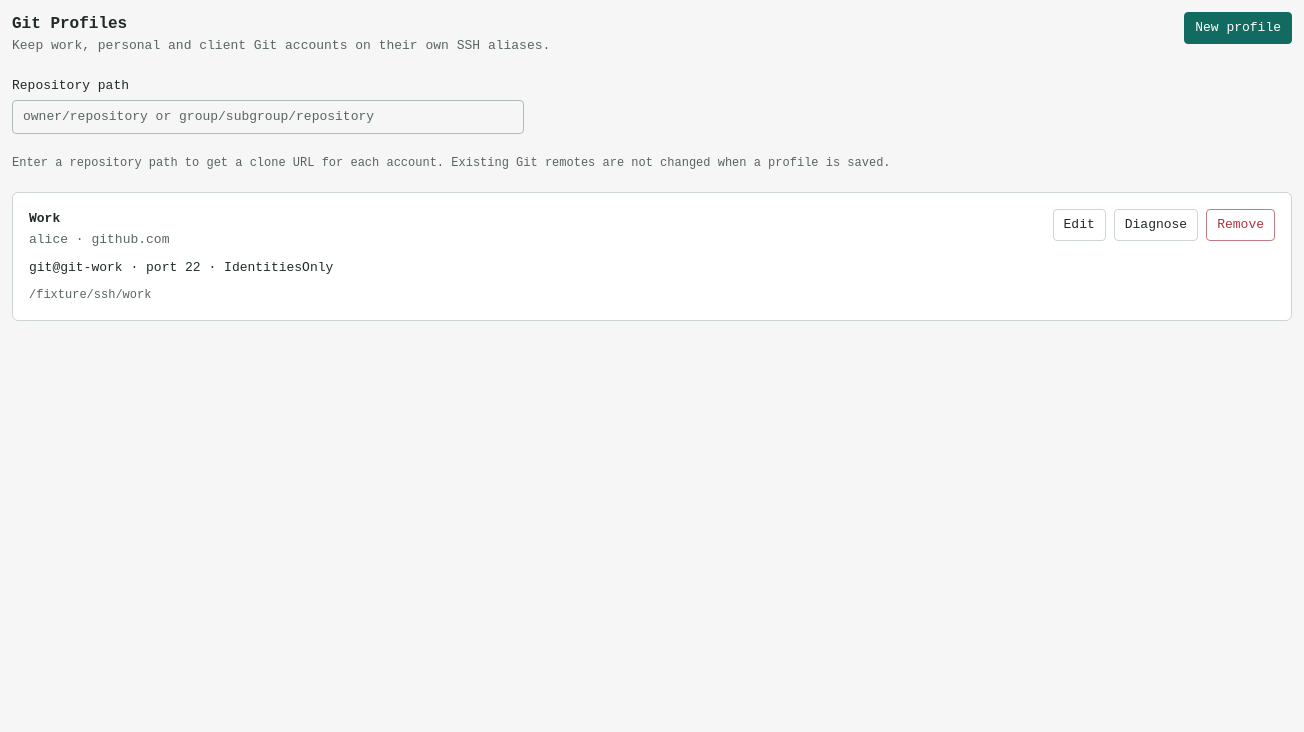
Test: Git profiles and repository safety › keeps a stale profile edit open and reports its rejection
This screenshot has width=1304, height=732.
Step 1. Click the button "Edit" → (1079, 225), box x1=1052 y1=209 x2=1106 y2=241
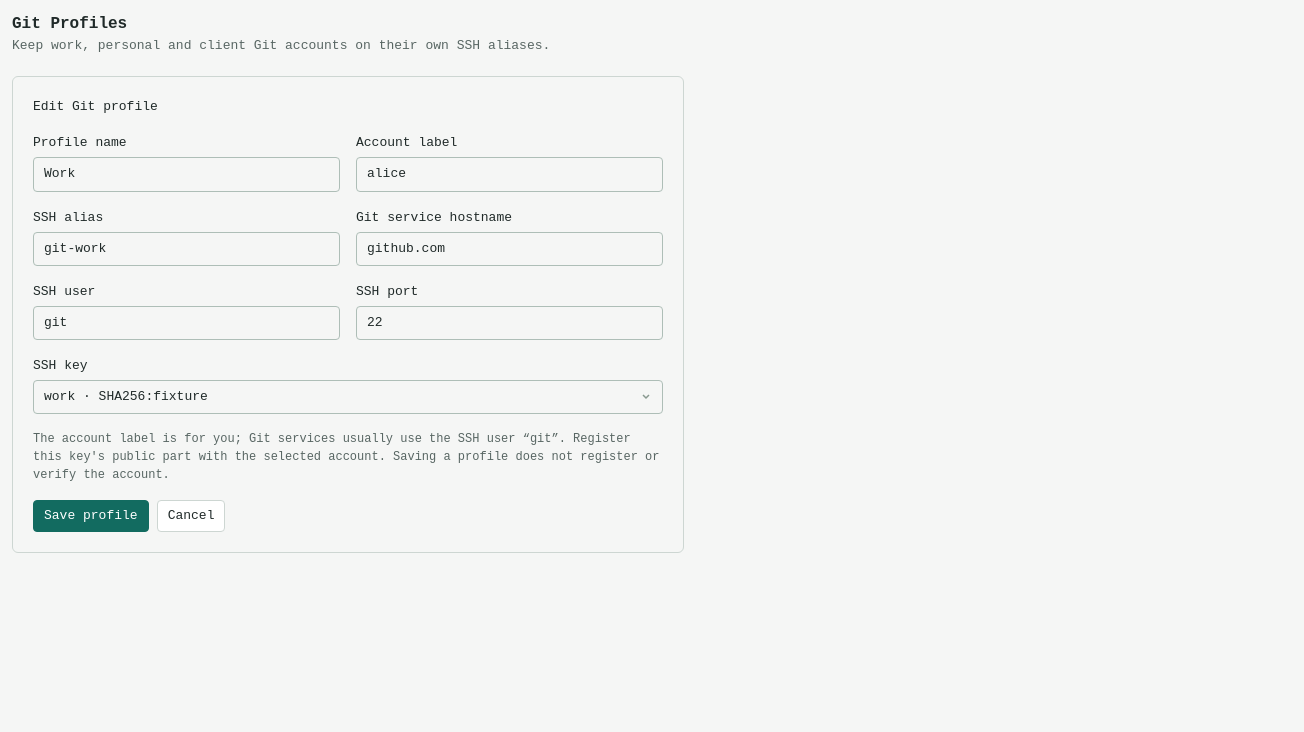
Step 2. Click the button "Save profile" → (91, 516), box x1=33 y1=500 x2=149 y2=532
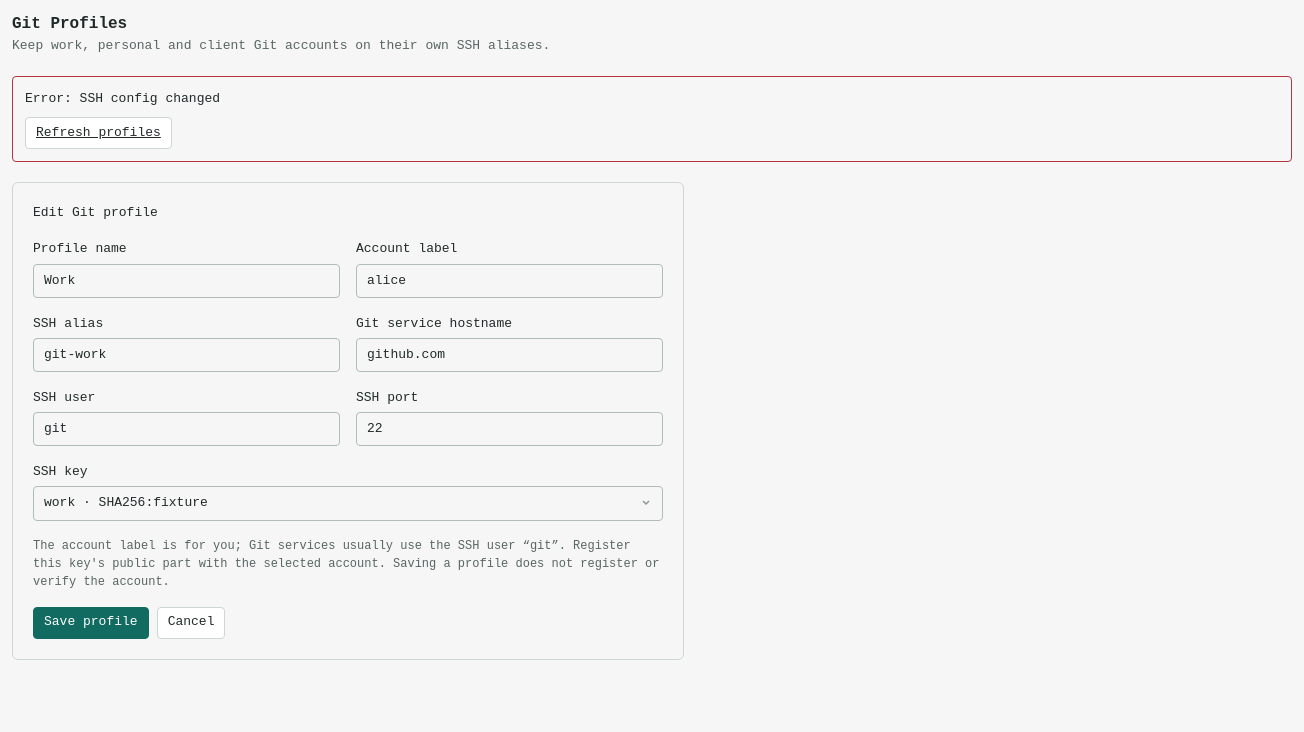
expect the dropdown labelled "SSH key" is shown: met, box x1=33 y1=486 x2=663 y2=520
expect the message "Error: SSH config changed Refresh profiles" is shown: met, box x1=12 y1=76 x2=1292 y2=162
